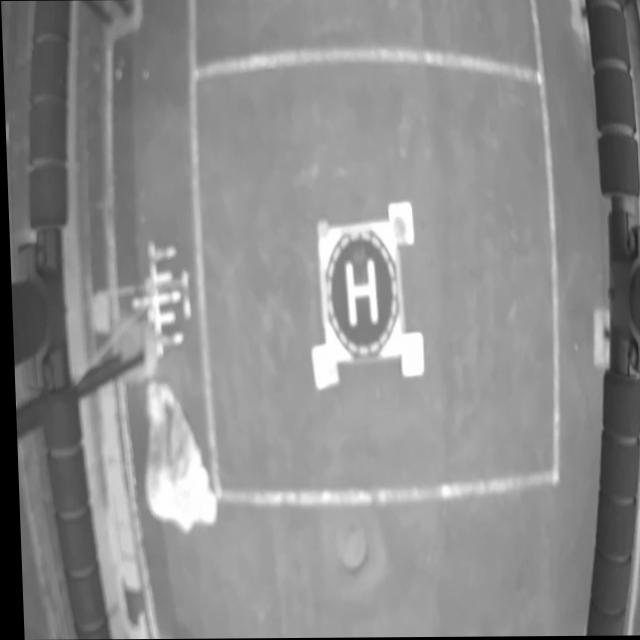Helipad: (342, 257, 376, 328)
